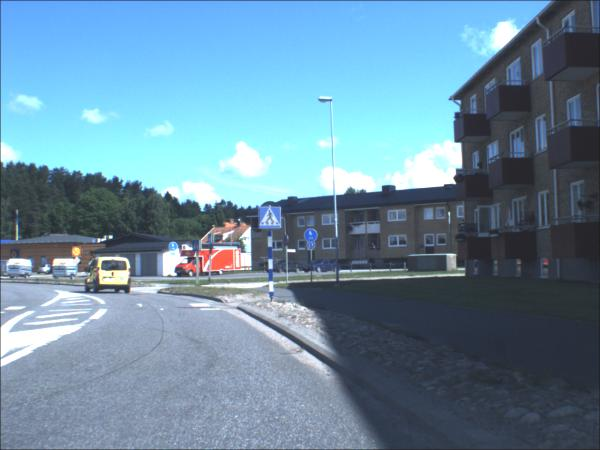50_SIGN: (73, 247, 83, 259)
PEDESTRIAN_CROSSING: (261, 208, 283, 230)
PRIORITY_ROAD: (74, 258, 83, 266)
